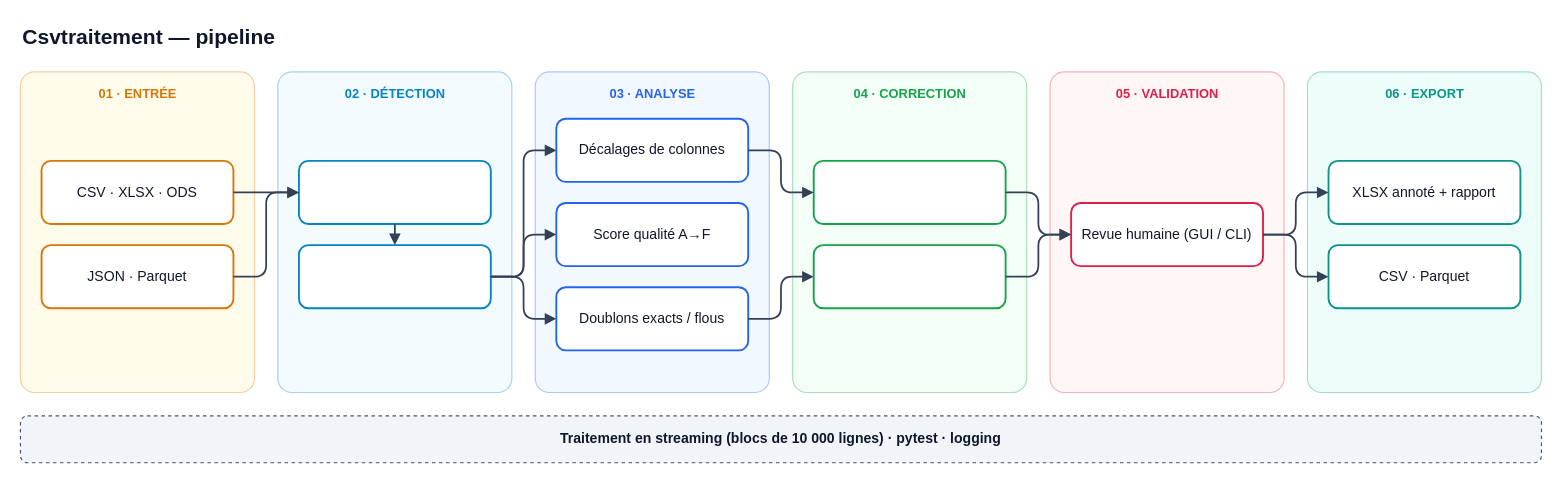
Some shapes in this 1562 by 483 pixel diagram are drawn without their labels. Each missing label, with the box of its shape:
Dates, décimales FR/US: (812, 159, 1006, 224)
Encodage + séparateur: (297, 159, 491, 224)
Masquage PII: (812, 244, 1006, 309)
Profilage 9 types: (297, 244, 491, 309)
